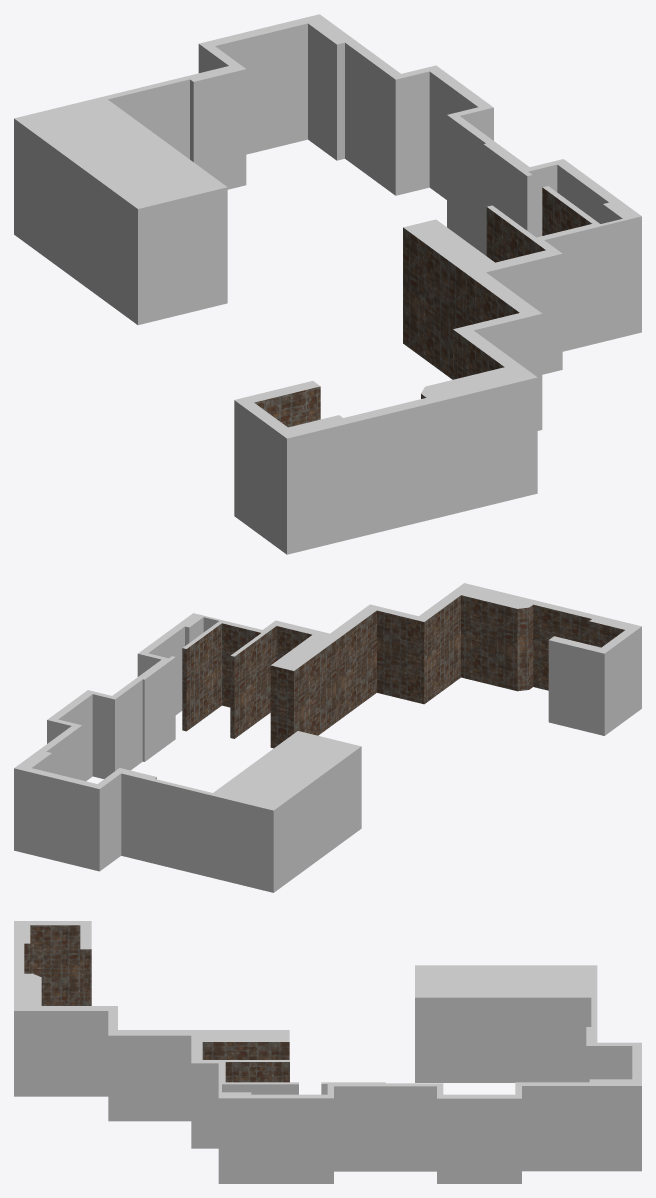
Rendered from Dust.fbx.
The picture shows the model from 3 angles, top to bottom: view 1: azimuth 30°, elevation 25°; view 2: azimuth 150°, elevation 25°; view 3: azimuth 270°, elevation 25°; orthographic projection. The views are drawn at different scales.
Parts seen in each view (by area): view 1: Wall; view 2: Wall; view 3: Wall.
Boxes of the visible parts, x1,y1,x2,y2 form: Wall: (14, 14, 641, 554); Wall: (14, 583, 641, 892); Wall: (14, 921, 641, 1183).
Bounding box in the file's own units: 891 × 200 × 1332.
